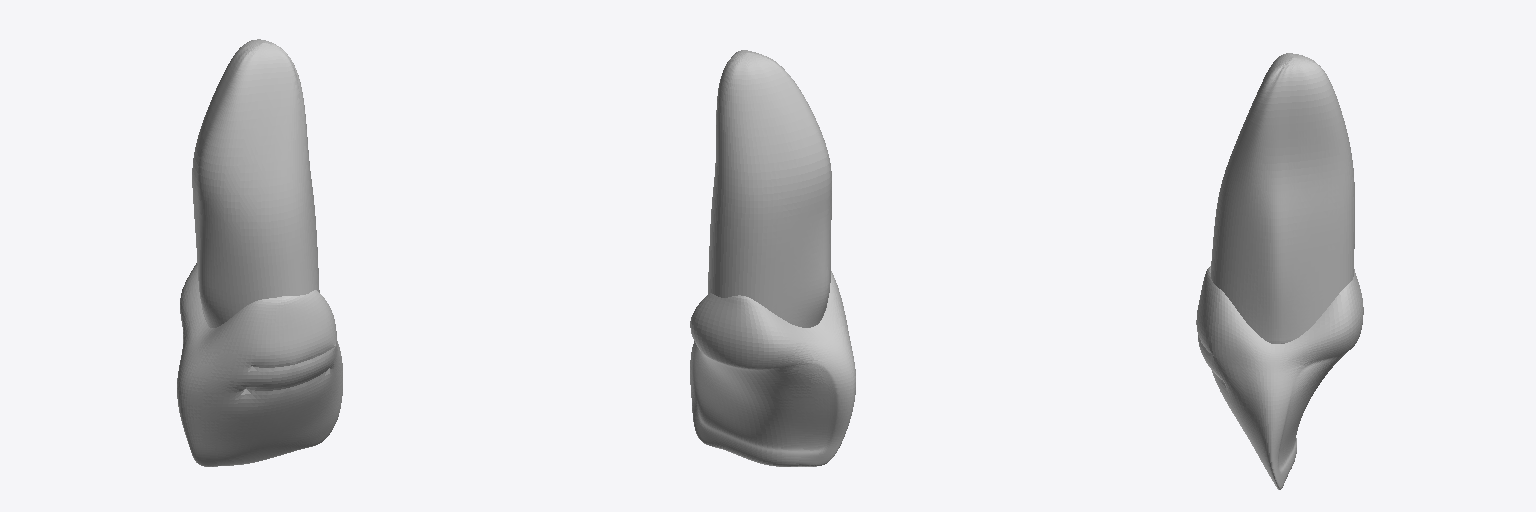
Rendered from modelo.obj.
3 renders of one model, left to right at view 1: azimuth 30°, elevation 25°; view 2: azimuth 150°, elevation 25°; view 3: azimuth 270°, elevation 25°, orthographic.
Parts seen in each view (by area): view 1: Cylinder, Cylinder.001_Cylinder.002; view 2: Cylinder, Cylinder.001_Cylinder.002; view 3: Cylinder, Cylinder.001_Cylinder.002.
Part boxes in pixels (left/top/right/bottom): Cylinder: left=192, top=39, right=319, bottom=327; Cylinder.001_Cylinder.002: left=177, top=263, right=342, bottom=466; Cylinder: left=708, top=50, right=831, bottom=327; Cylinder.001_Cylinder.002: left=690, top=271, right=855, bottom=466; Cylinder: left=1211, top=53, right=1354, bottom=343; Cylinder.001_Cylinder.002: left=1196, top=266, right=1363, bottom=489.
Size of the model in its own units: 1.58 by 3.8 by 1.4.